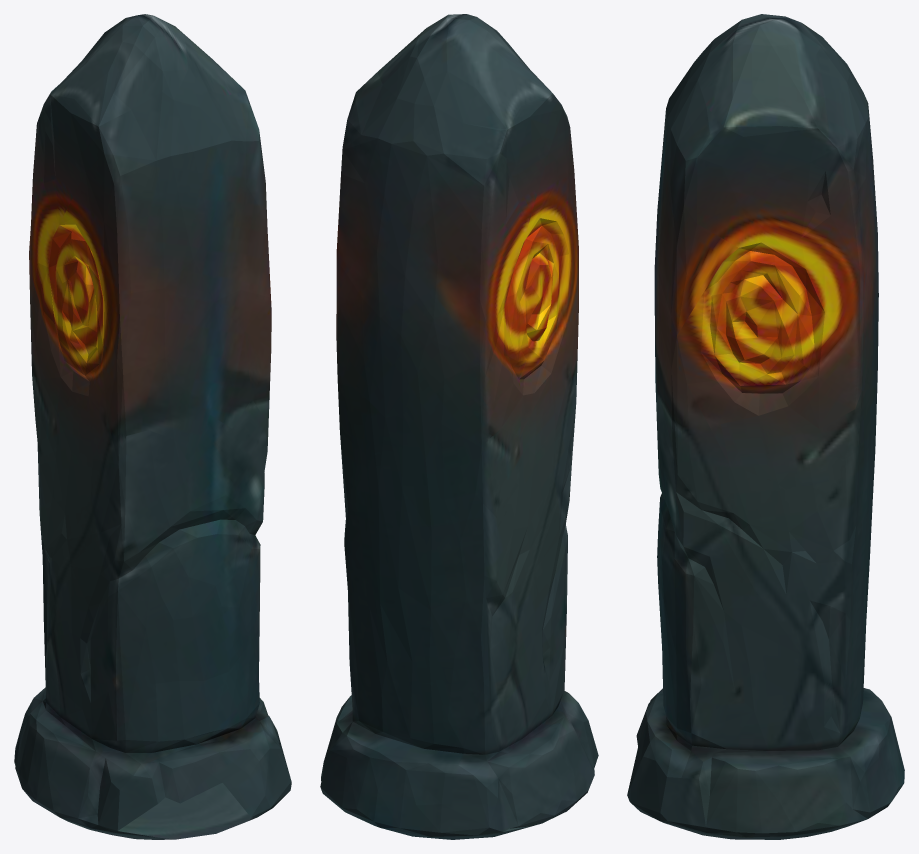
The model's file is Pilar Prueba.fbx.
3 views of the same model, side by side, from view 1: azimuth 30°, elevation 25°; view 2: azimuth 150°, elevation 25°; view 3: azimuth 270°, elevation 25° (orthographic).
Visible parts, largest first — view 1: tripo_node_aca6d9db-1945-471e-bc2b-c6a562eaa513; view 2: tripo_node_aca6d9db-1945-471e-bc2b-c6a562eaa513; view 3: tripo_node_aca6d9db-1945-471e-bc2b-c6a562eaa513.
Boxes of the visible parts, x1=… form: tripo_node_aca6d9db-1945-471e-bc2b-c6a562eaa513: x1=14, y1=14, x2=291, y2=839; tripo_node_aca6d9db-1945-471e-bc2b-c6a562eaa513: x1=320, y1=14, x2=598, y2=839; tripo_node_aca6d9db-1945-471e-bc2b-c6a562eaa513: x1=627, y1=14, x2=904, y2=839.
Size of the model in its own units: 11.64 by 36.69 by 11.9.
Materials: 1 (1 with a texture image).
